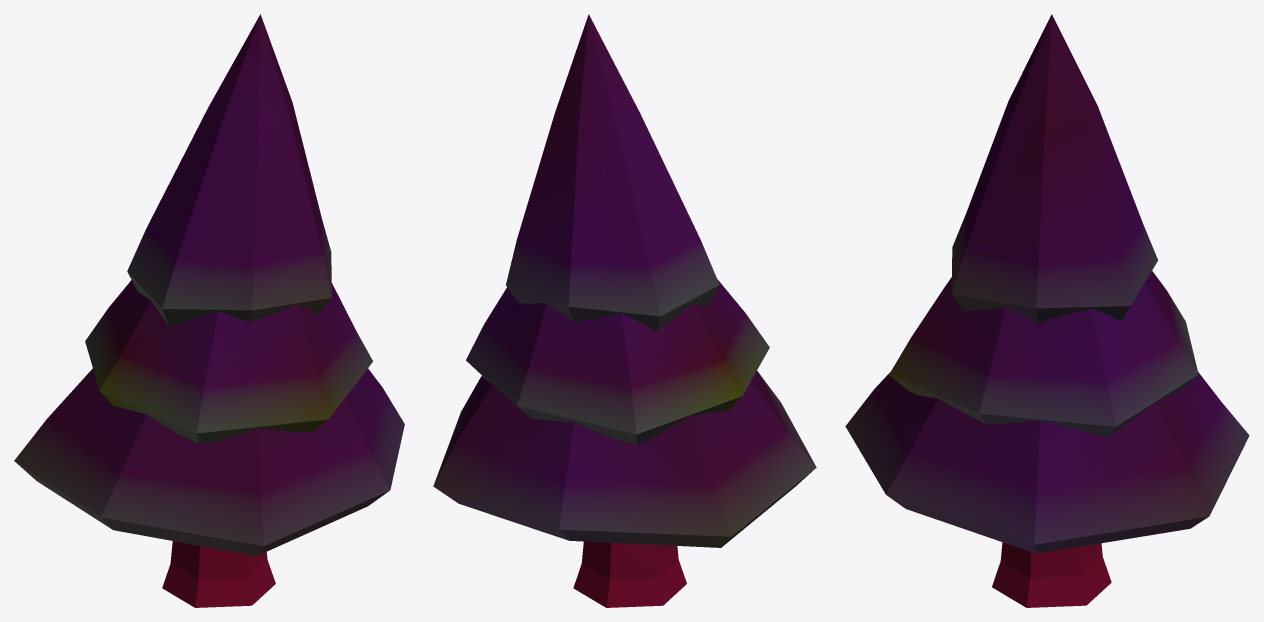
Rendered from Tree_Pine_Variant_02.glb.
3 views of the same model, side by side, from view 1: azimuth 30°, elevation 25°; view 2: azimuth 150°, elevation 25°; view 3: azimuth 270°, elevation 25° (orthographic). The views are drawn at different scales.
Visible parts, largest first — view 1: Tree_Pine_Variant_02; view 2: Tree_Pine_Variant_02; view 3: Tree_Pine_Variant_02.
Part boxes in pixels (bbox=[...]): Tree_Pine_Variant_02: bbox=[14, 14, 404, 607]; Tree_Pine_Variant_02: bbox=[433, 14, 816, 607]; Tree_Pine_Variant_02: bbox=[845, 14, 1249, 607].
Bounding box in the file's own units: 2.68 × 4.35 × 2.69.
